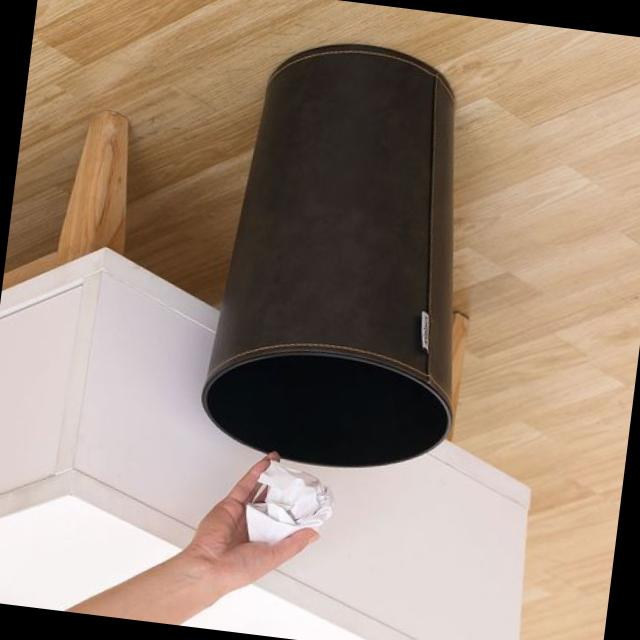crumpled_paper: (239, 454, 341, 556)
dustbin: (189, 24, 499, 487)
